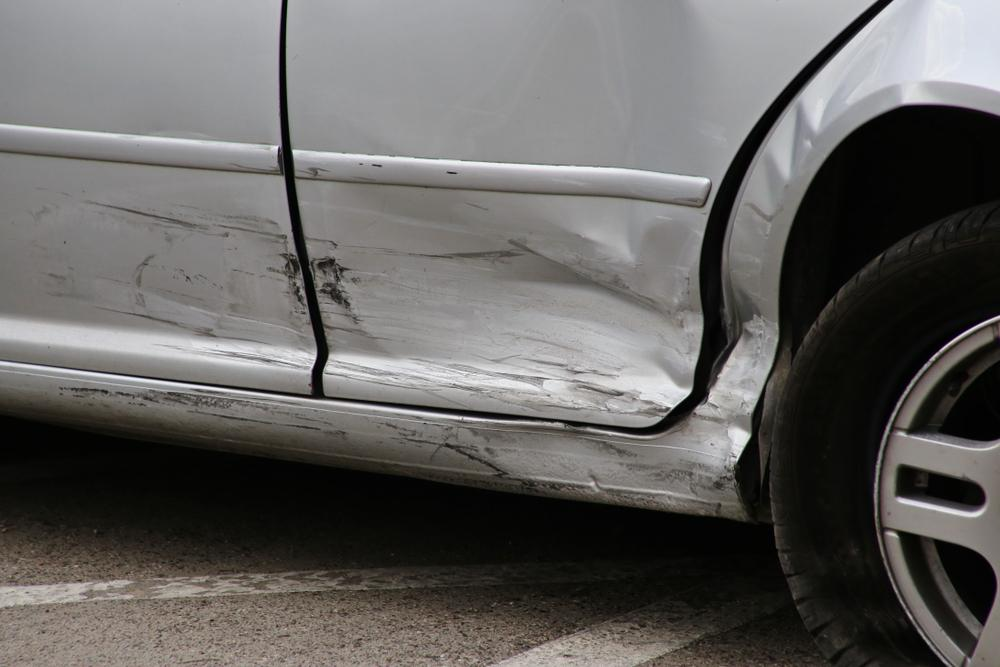dent: (695, 0, 959, 460), (323, 190, 700, 410), (545, 0, 706, 167)
scratch: (55, 387, 748, 516), (19, 188, 320, 377), (305, 258, 439, 397)
